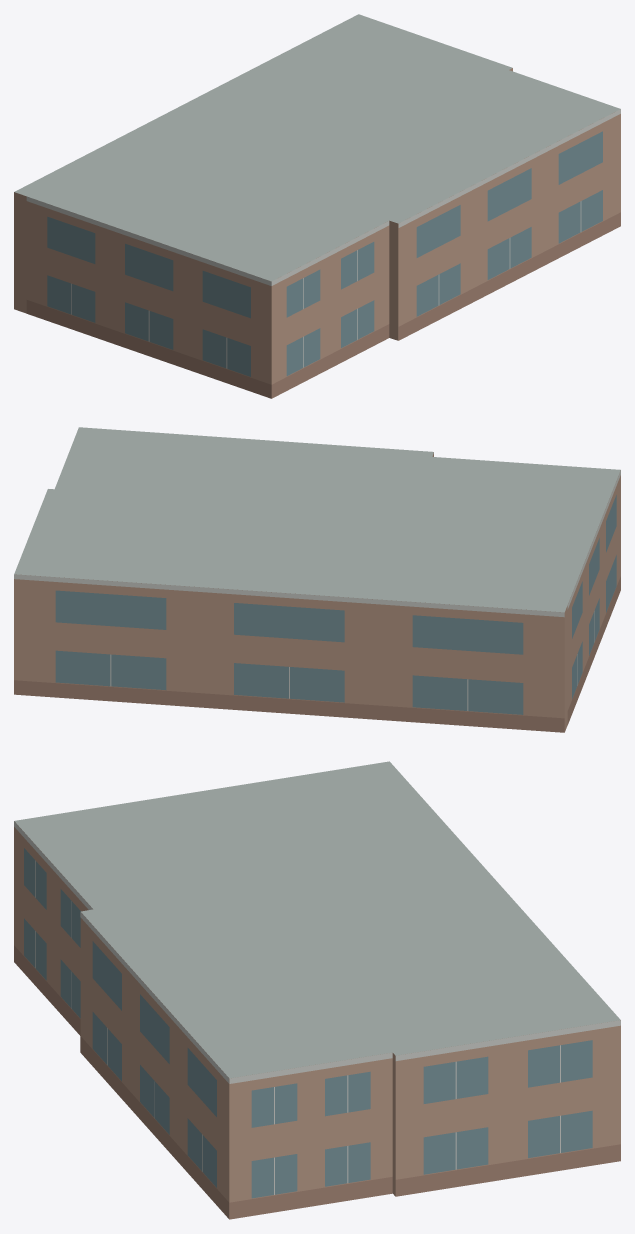
Rendered from survey-upis-32856618.glb.
3 views of the same model, one above another, from view 1: azimuth 30°, elevation 25°; view 2: azimuth 150°, elevation 25°; view 3: azimuth 270°, elevation 25° (orthographic). The views are drawn at different scales.
Parts seen in each view (by area): view 1: survey-upis-32856618.tmp; view 2: survey-upis-32856618.tmp; view 3: survey-upis-32856618.tmp.
Part boxes in pixels (x1,y1,x2,y2): survey-upis-32856618.tmp: (14, 14, 620, 398); survey-upis-32856618.tmp: (14, 427, 620, 732); survey-upis-32856618.tmp: (14, 761, 620, 1219).
Size of the model in its own units: 29.41 by 6.1 by 23.79.
